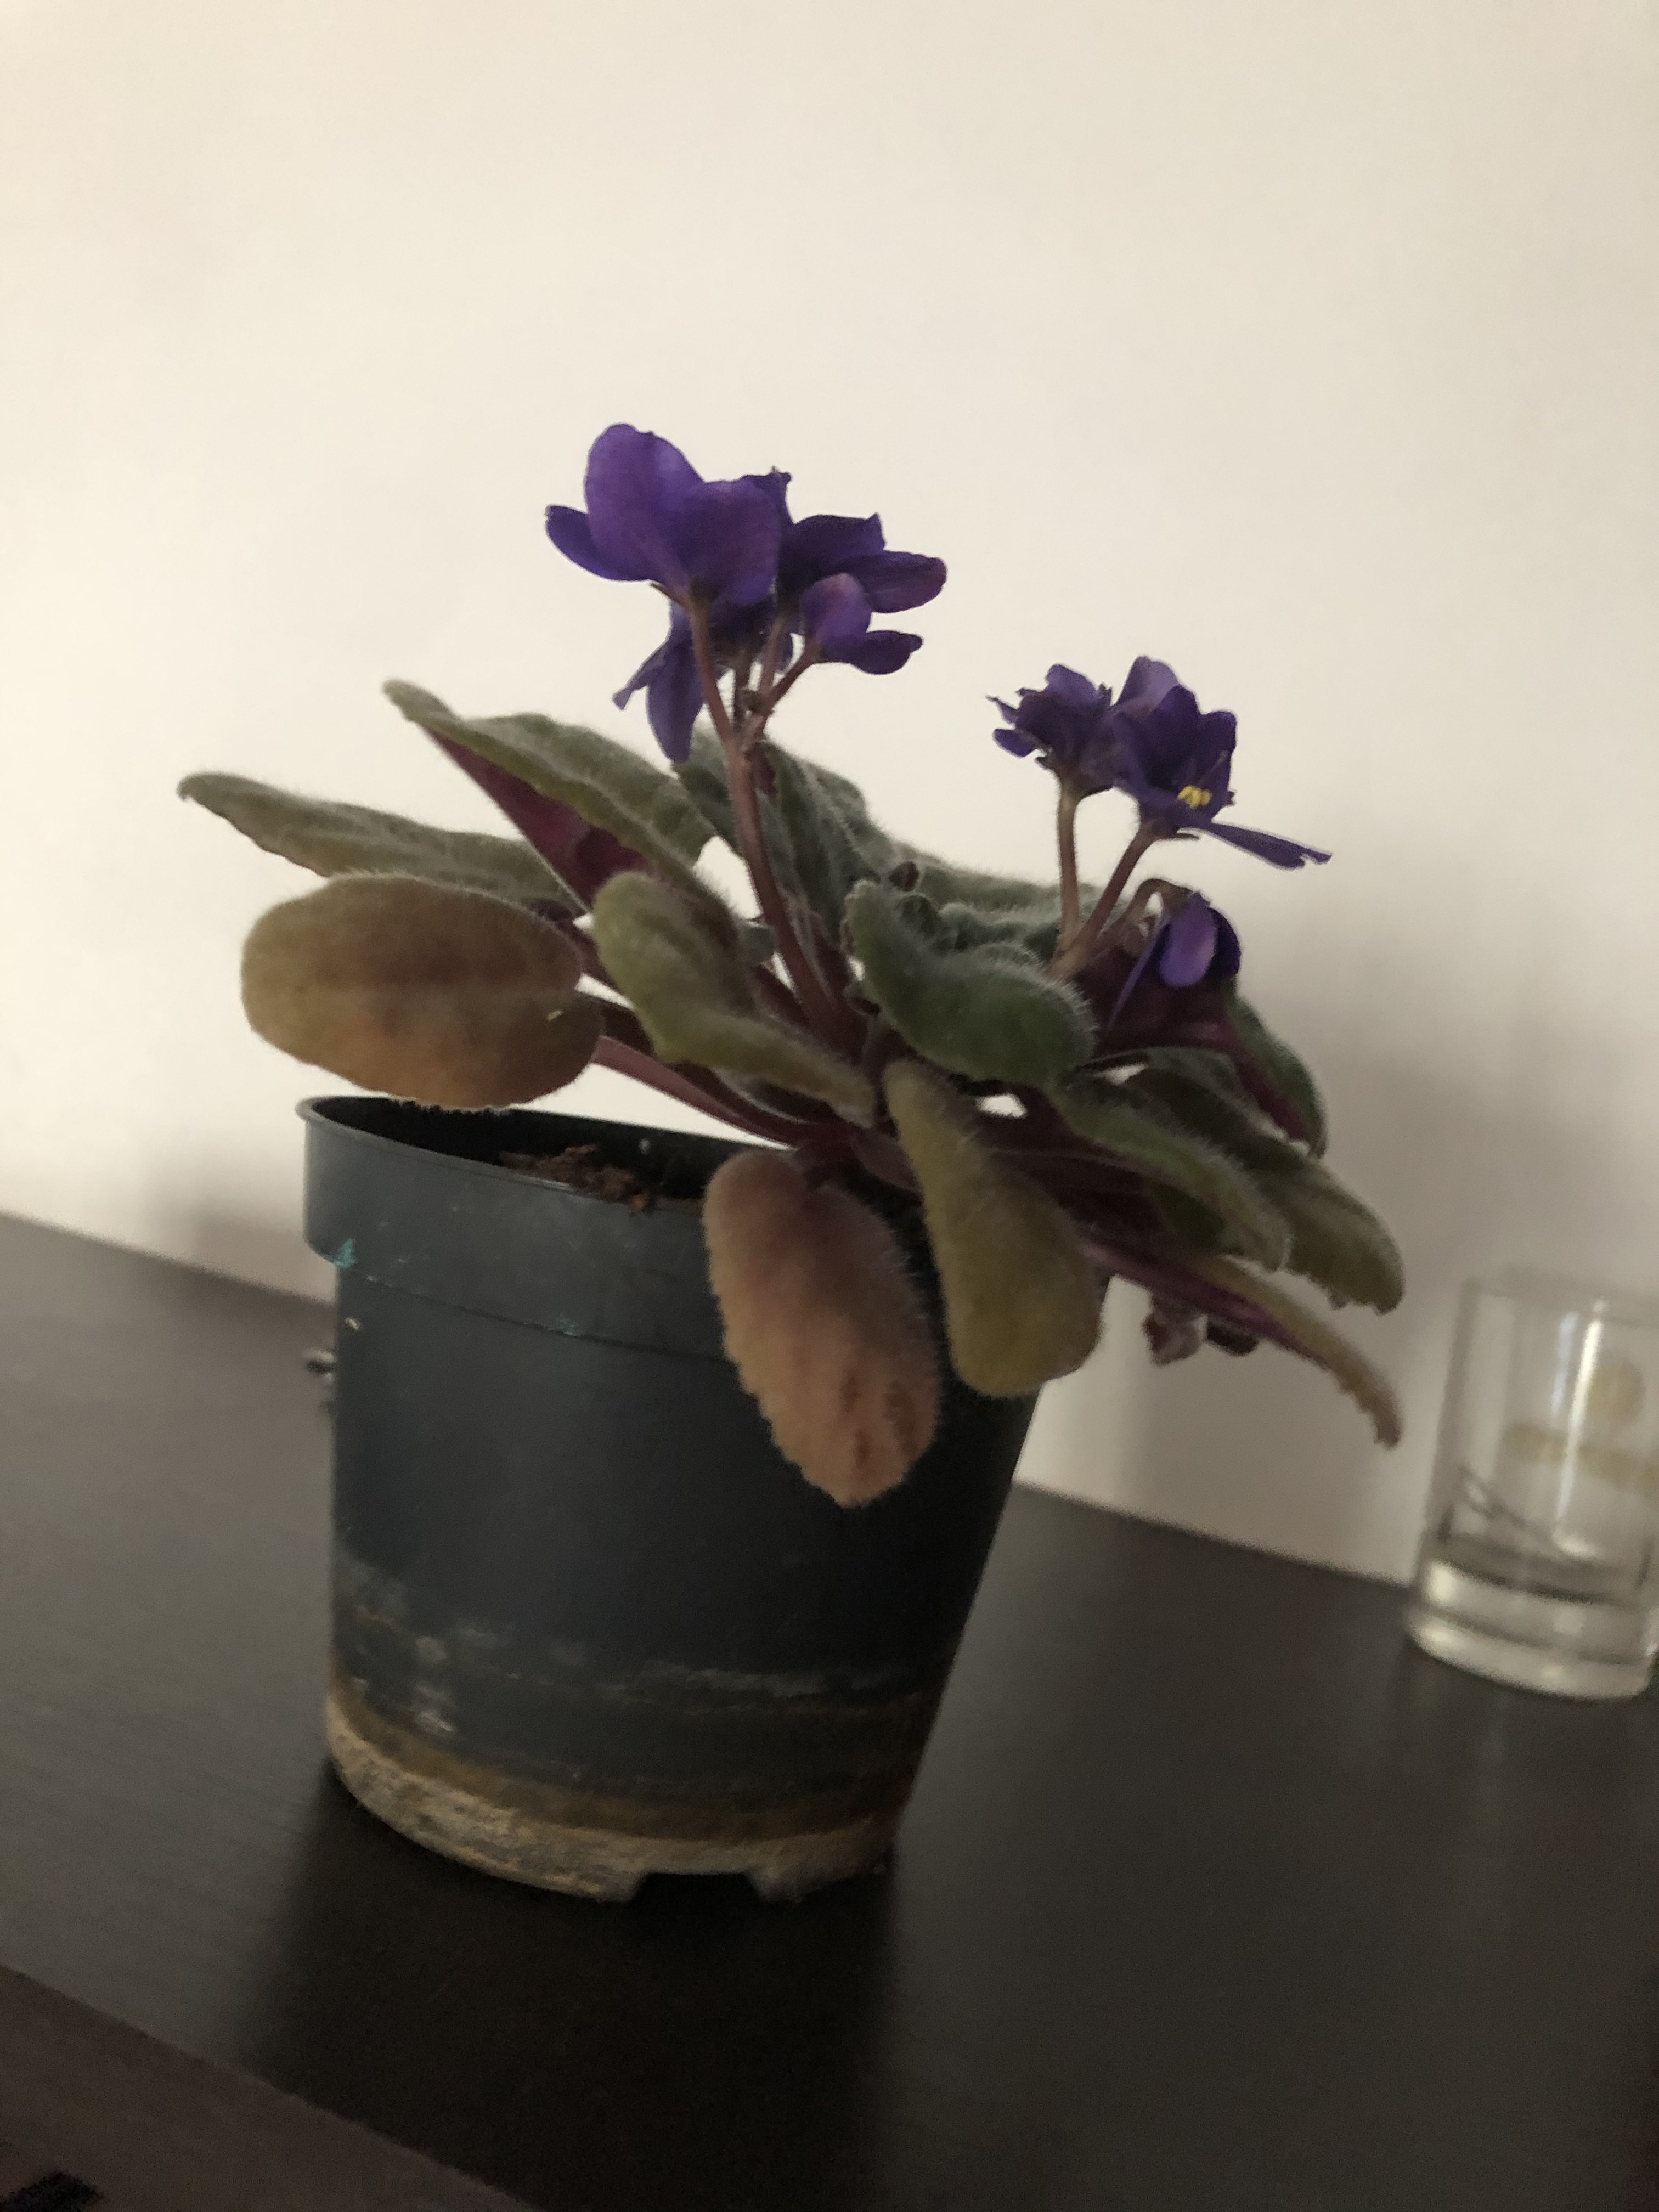ignore: (145, 383, 1460, 1538)
